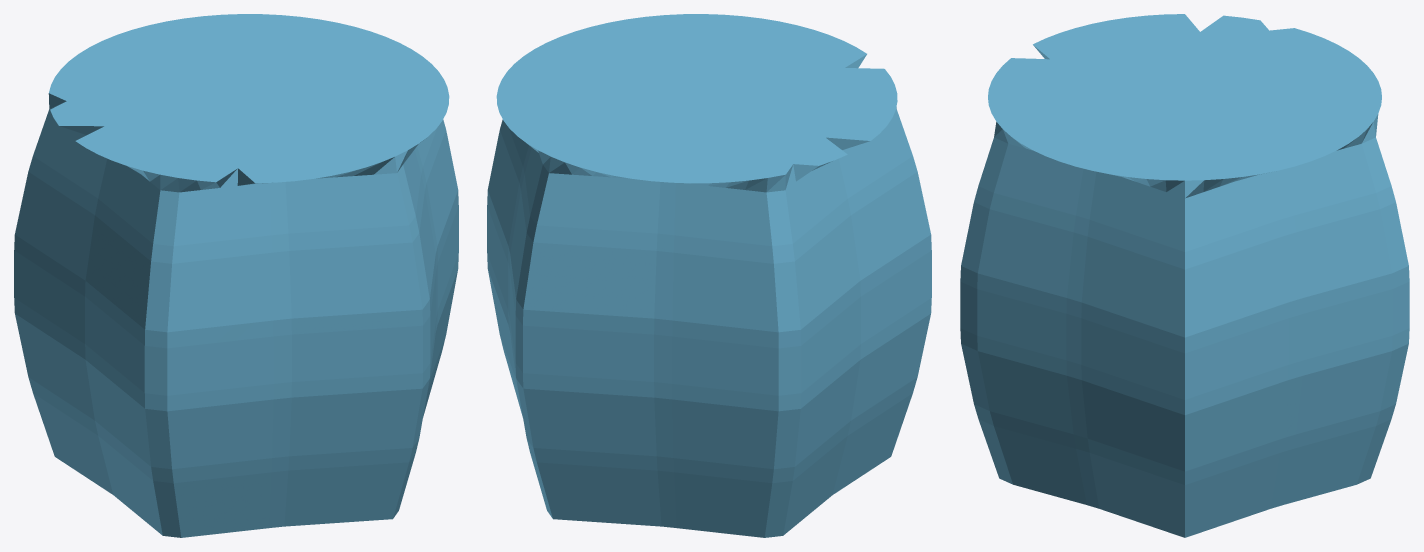
Rendered from displace_vase.glb.
3 renders of one model, left to right at view 1: azimuth 30°, elevation 25°; view 2: azimuth 150°, elevation 25°; view 3: azimuth 270°, elevation 25°, orthographic.
Parts seen in each view (by area): view 1: mesh_0; view 2: mesh_0; view 3: mesh_0.
Boxes of the visible parts, x1,y1,x2,y2 form: mesh_0: (14, 14, 458, 537); mesh_0: (487, 14, 931, 537); mesh_0: (960, 14, 1409, 537).
Size of the model in its own units: 1.77 by 1.6 by 1.82.
